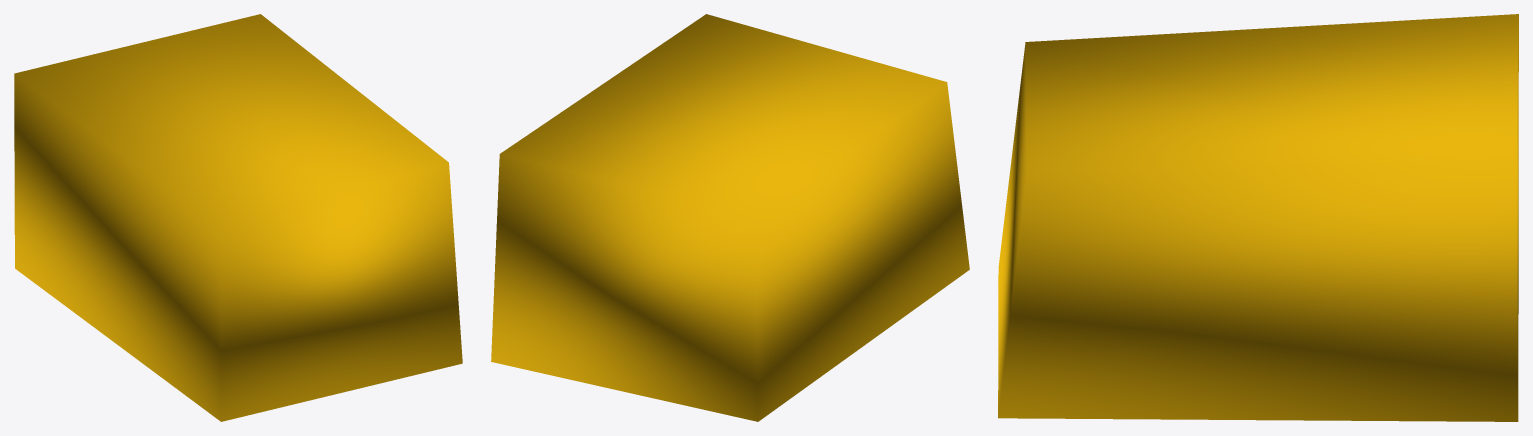
File: Brick_02_Lod1.fbx
3 renders of one model, left to right at view 1: azimuth 30°, elevation 25°; view 2: azimuth 150°, elevation 25°; view 3: azimuth 270°, elevation 25°, orthographic. The views are drawn at different scales.
Parts seen in each view (by area): view 1: Brick_02_Lod1; view 2: Brick_02_Lod1; view 3: Brick_02_Lod1.
Boxes of the visible parts, left/top/right/bottom form: Brick_02_Lod1: left=14, top=14, right=462, bottom=421; Brick_02_Lod1: left=491, top=14, right=969, bottom=421; Brick_02_Lod1: left=998, top=14, right=1518, bottom=421.
Size of the model in its own units: 172 by 130 by 242.
